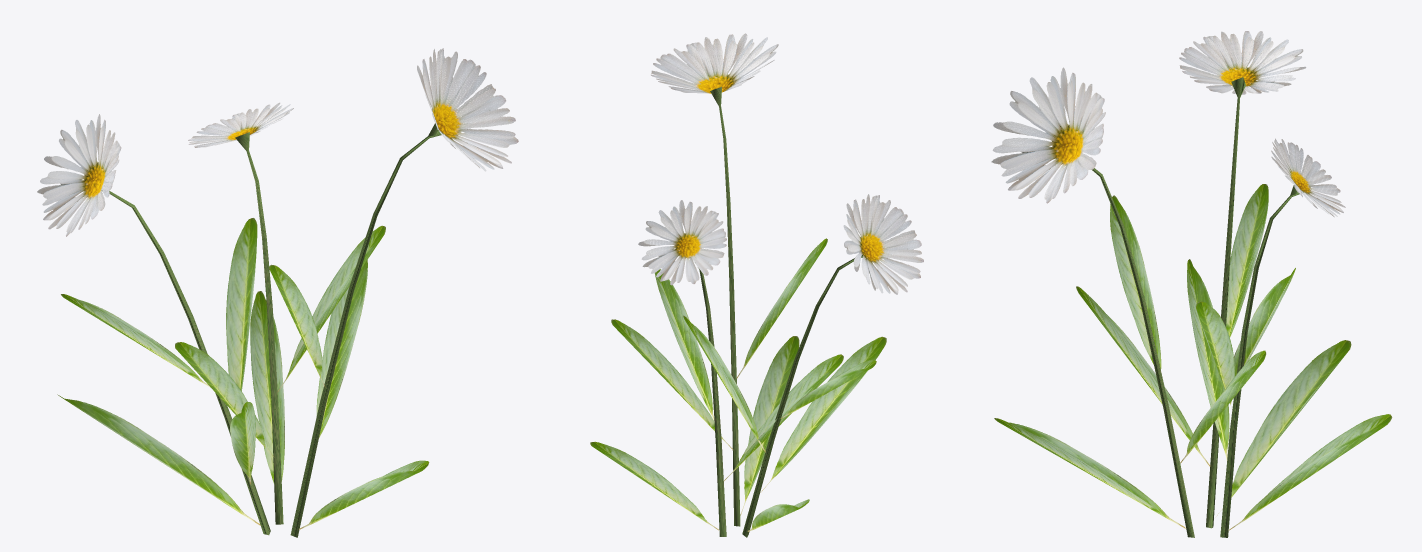
Rendered from daisie.glb.
The picture shows the model from 3 angles, left to right: view 1: azimuth 30°, elevation 25°; view 2: azimuth 150°, elevation 25°; view 3: azimuth 270°, elevation 25°; orthographic projection. The views are drawn at different scales.
Parts seen in each view (by area): view 1: tree.002; view 2: tree.002; view 3: tree.002.
Boxes of the visible parts, left/top/right/bottom form: tree.002: left=37, top=48, right=518, bottom=537; tree.002: left=590, top=33, right=923, bottom=537; tree.002: left=991, top=31, right=1392, bottom=537.
Size of the model in its own units: 68.92 by 83.95 by 64.76.
3 materials, 3 textured.
